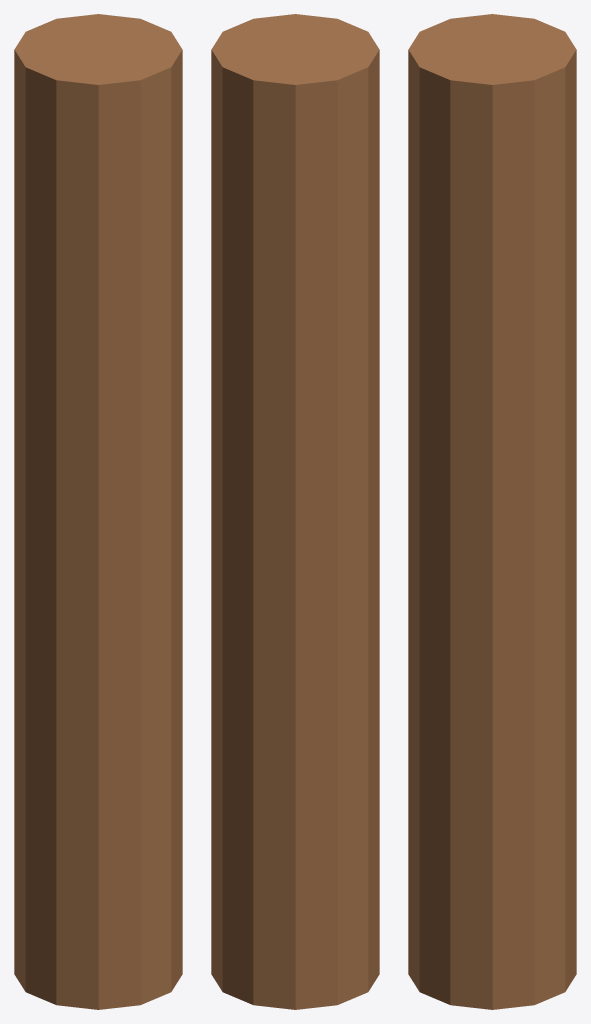
The model's file is young_trunk.glb.
3 renders of one model, left to right at view 1: azimuth 30°, elevation 25°; view 2: azimuth 150°, elevation 25°; view 3: azimuth 270°, elevation 25°, orthographic.
Visible parts, largest first — view 1: young_trunk; view 2: young_trunk; view 3: young_trunk.
Part boxes in pixels (x1,y1,x2,y2): young_trunk: (14, 14, 182, 1009); young_trunk: (211, 14, 379, 1009); young_trunk: (408, 14, 576, 1009).
Bounding box in the file's own units: 0.28 × 1.7 × 0.28.
